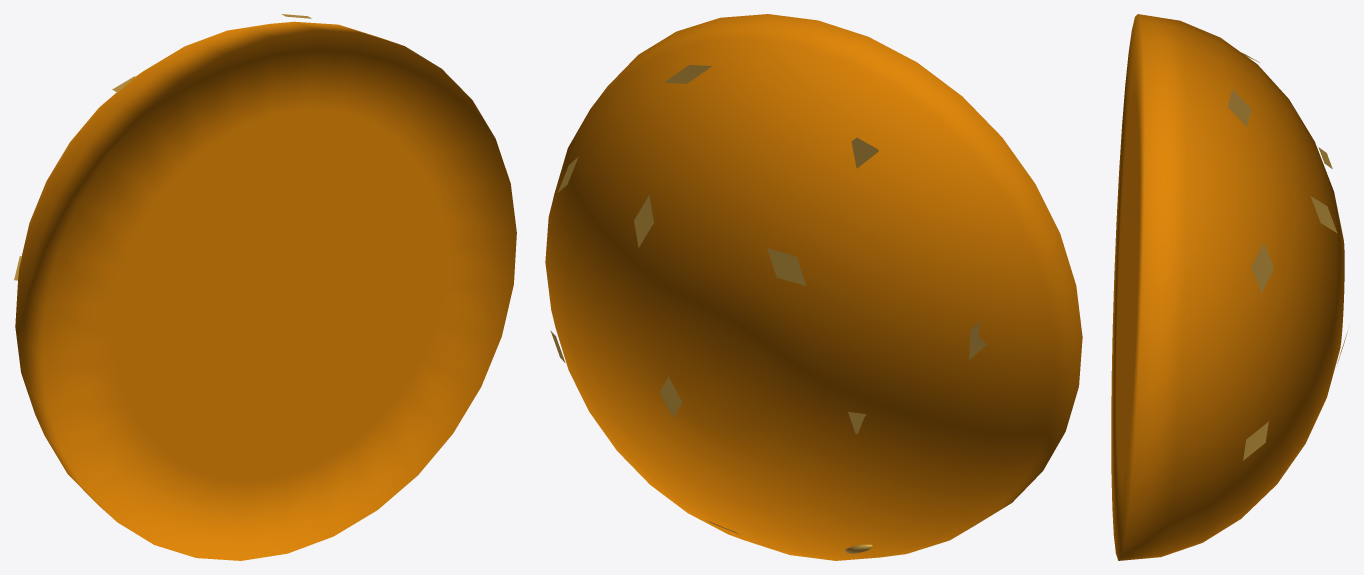
The model's file is Pan_De_arriba.glb.
3 renders of one model, left to right at view 1: azimuth 30°, elevation 25°; view 2: azimuth 150°, elevation 25°; view 3: azimuth 270°, elevation 25°, orthographic. The views are drawn at different scales.
Visible parts, largest first — view 1: imagetostl_mesh10; view 2: imagetostl_mesh10; view 3: imagetostl_mesh10.
Part boxes in pixels (bbox=[...]): imagetostl_mesh10: bbox=[14, 14, 516, 560]; imagetostl_mesh10: bbox=[545, 14, 1082, 560]; imagetostl_mesh10: bbox=[1111, 14, 1347, 560].
Bounding box in the file's own units: 0.3419 × 0.3416 × 0.149.
